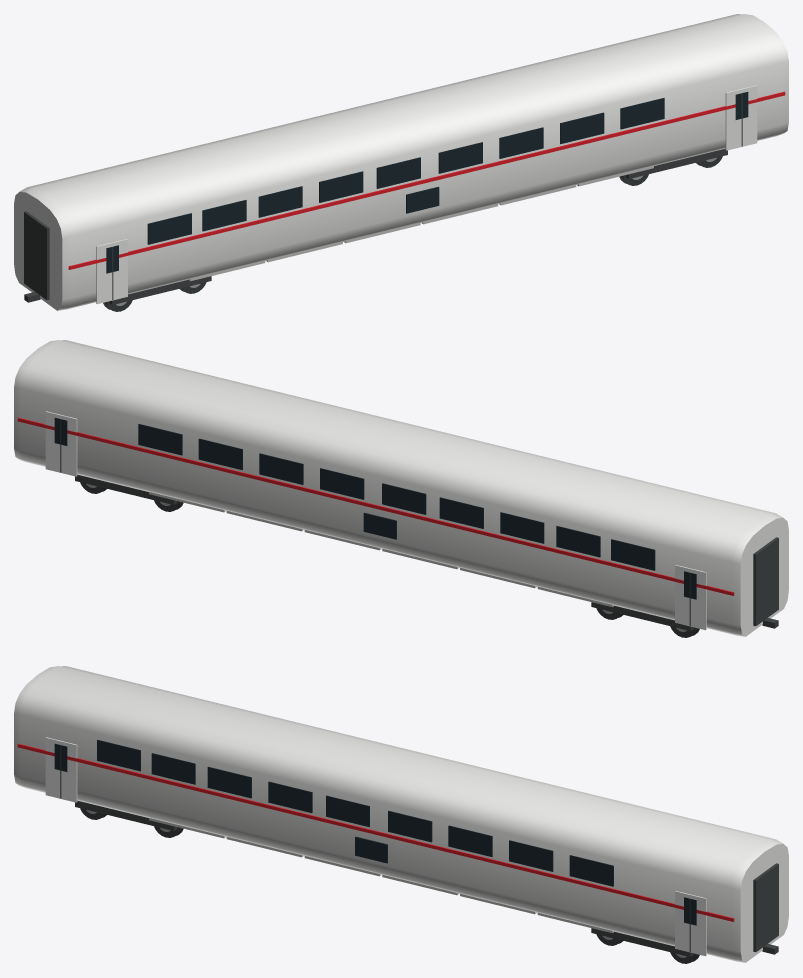
Rendered from ice3-br403-service-403-8.glb.
3 renders of one model, top to bottom at view 1: azimuth 30°, elevation 25°; view 2: azimuth 150°, elevation 25°; view 3: azimuth 330°, elevation 25°, orthographic.
Visible parts, largest first — view 1: ice3_service_403_8_lofted_shell, service_403_8_red_belt_-1, service_403_8_gangway_-1, service_403_8_1_door_-1, service_403_8_0_door_-1, service_403_8_00_window_-1, service_403_8_01_window_-1, service_403_8_02_window_-1, service_403_8_04_window_-1, service_403_8_05_window_-1, service_403_8_06_window_-1, service_403_8_08_window_-1 (+5 smaller); view 2: ice3_service_403_8_lofted_shell, service_403_8_red_belt_1, service_403_8_gangway_-1, service_403_8_1_door_1, service_403_8_0_door_1, service_403_8_bogie_1, service_403_8_bogie_0, service_403_8_00_window_1, service_403_8_01_window_1, service_403_8_02_window_1, service_403_8_04_window_1, service_403_8_05_window_1 (+5 smaller); view 3: ice3_service_403_8_lofted_shell, service_403_8_red_belt_-1, service_403_8_gangway_1, service_403_8_0_door_-1, service_403_8_1_door_-1, service_403_8_01_window_-1, service_403_8_05_window_-1, service_403_8_07_window_-1, service_403_8_08_window_-1, service_403_8_02_window_-1, service_403_8_03_window_-1, service_403_8_06_window_-1 (+5 smaller).
Boxes of the visible parts, bbox=[...] form: ice3_service_403_8_lofted_shell: bbox=[14, 14, 788, 310]; service_403_8_red_belt_-1: bbox=[68, 91, 785, 269]; service_403_8_gangway_-1: bbox=[24, 211, 49, 300]; service_403_8_1_door_-1: bbox=[725, 85, 757, 150]; service_403_8_0_door_-1: bbox=[96, 239, 127, 304]; service_403_8_00_window_-1: bbox=[147, 213, 191, 244]; service_403_8_01_window_-1: bbox=[202, 200, 246, 231]; service_403_8_02_window_-1: bbox=[258, 186, 302, 217]; service_403_8_04_window_-1: bbox=[376, 157, 420, 188]; service_403_8_05_window_-1: bbox=[438, 142, 482, 173]; service_403_8_06_window_-1: bbox=[499, 127, 543, 158]; service_403_8_08_window_-1: bbox=[620, 98, 664, 129]; ice3_service_403_8_lofted_shell: bbox=[14, 340, 788, 636]; service_403_8_red_belt_1: bbox=[17, 417, 734, 595]; service_403_8_gangway_-1: bbox=[753, 537, 778, 626]; service_403_8_1_door_1: bbox=[45, 411, 77, 476]; service_403_8_0_door_1: bbox=[675, 565, 706, 630]; service_403_8_bogie_1: bbox=[75, 474, 183, 511]; service_403_8_bogie_0: bbox=[591, 602, 699, 637]; service_403_8_00_window_1: bbox=[611, 539, 655, 570]; service_403_8_01_window_1: bbox=[556, 526, 600, 557]; service_403_8_02_window_1: bbox=[500, 512, 544, 543]; service_403_8_04_window_1: bbox=[382, 483, 426, 514]; service_403_8_05_window_1: bbox=[320, 468, 364, 499]; ice3_service_403_8_lofted_shell: bbox=[14, 666, 788, 962]; service_403_8_red_belt_-1: bbox=[17, 743, 734, 921]; service_403_8_gangway_1: bbox=[753, 863, 778, 952]; service_403_8_0_door_-1: bbox=[45, 737, 77, 802]; service_403_8_1_door_-1: bbox=[675, 891, 706, 956]; service_403_8_01_window_-1: bbox=[151, 753, 195, 784]; service_403_8_05_window_-1: bbox=[388, 810, 432, 842]; service_403_8_07_window_-1: bbox=[509, 840, 553, 871]; service_403_8_08_window_-1: bbox=[569, 855, 613, 886]; service_403_8_02_window_-1: bbox=[207, 766, 251, 798]; service_403_8_03_window_-1: bbox=[268, 781, 312, 812]; service_403_8_06_window_-1: bbox=[448, 825, 492, 856].
Size of the model in its own units: 25.4 by 3.92 by 3.05.
